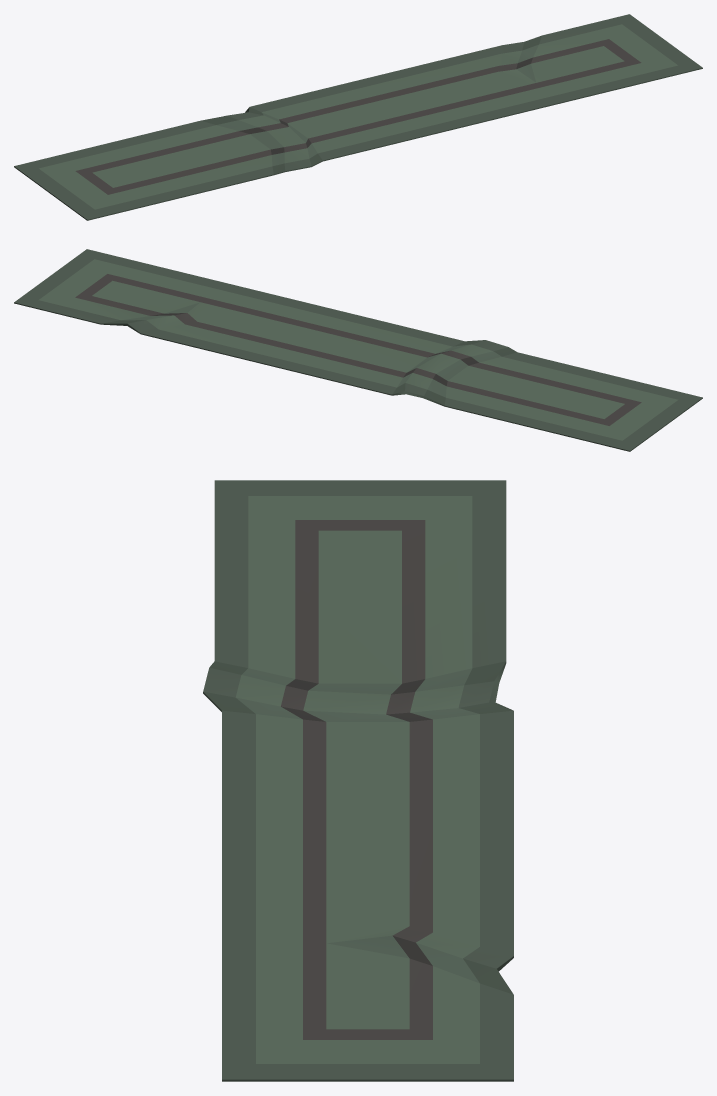
The model's file is SD_Prop_Rug_Green_Large_02.fbx.
3 views of the same model, one above another, from view 1: azimuth 30°, elevation 25°; view 2: azimuth 150°, elevation 25°; view 3: azimuth 270°, elevation 25° (orthographic). The views are drawn at different scales.
Visible parts, largest first — view 1: SD_Prop_Rug_Green_Large_02; view 2: SD_Prop_Rug_Green_Large_02; view 3: SD_Prop_Rug_Green_Large_02.
Part boxes in pixels (x1=…): SD_Prop_Rug_Green_Large_02: x1=14, y1=14, x2=702, y2=220; SD_Prop_Rug_Green_Large_02: x1=14, y1=249, x2=702, y2=451; SD_Prop_Rug_Green_Large_02: x1=203, y1=480, x2=513, y2=1081.
Size of the model in its own units: 12.78 by 0.0645 by 2.8.
